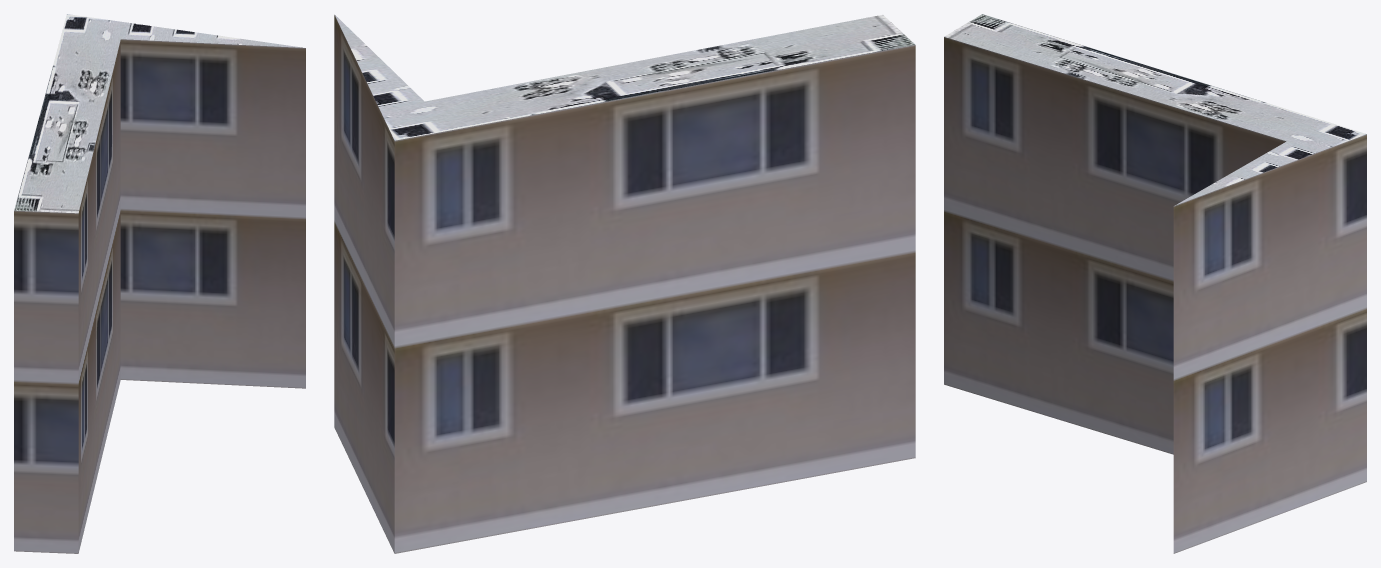
The model's file is ResTex__3910.fbx.
3 views of the same model, side by side, from view 1: azimuth 30°, elevation 25°; view 2: azimuth 150°, elevation 25°; view 3: azimuth 270°, elevation 25° (orthographic). The views are drawn at different scales.
Visible parts, largest first — view 1: CityEngineMaterial_21_m, CityEngineMaterial_4_m; view 2: CityEngineMaterial_21_m, CityEngineMaterial_4_m; view 3: CityEngineMaterial_21_m, CityEngineMaterial_4_m.
Part boxes in pixels (<box>): CityEngineMaterial_21_m: <box>14,39,305,553</box>; CityEngineMaterial_4_m: <box>14,14,304,213</box>; CityEngineMaterial_21_m: <box>334,15,915,553</box>; CityEngineMaterial_4_m: <box>334,14,915,140</box>; CityEngineMaterial_21_m: <box>944,37,1366,553</box>; CityEngineMaterial_4_m: <box>944,14,1366,205</box>.
Size of the model in its own units: 7.11 by 6 by 6.61.
2 materials, 2 textured.
